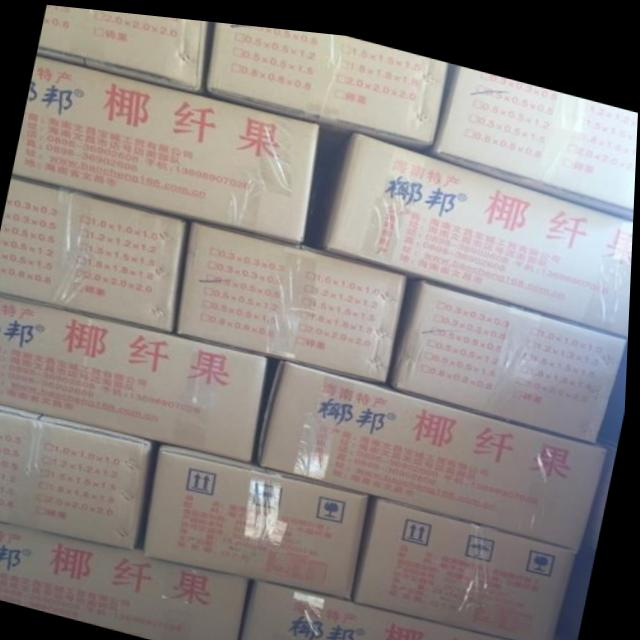box: (259, 351, 613, 537), (319, 125, 635, 326), (13, 51, 323, 237), (0, 297, 274, 458), (391, 267, 630, 431), (176, 215, 410, 376), (205, 18, 452, 158), (150, 439, 375, 591), (358, 490, 582, 637), (427, 54, 638, 207), (0, 173, 193, 330), (0, 522, 255, 640), (0, 405, 160, 546), (249, 578, 577, 640), (37, 4, 214, 91)
